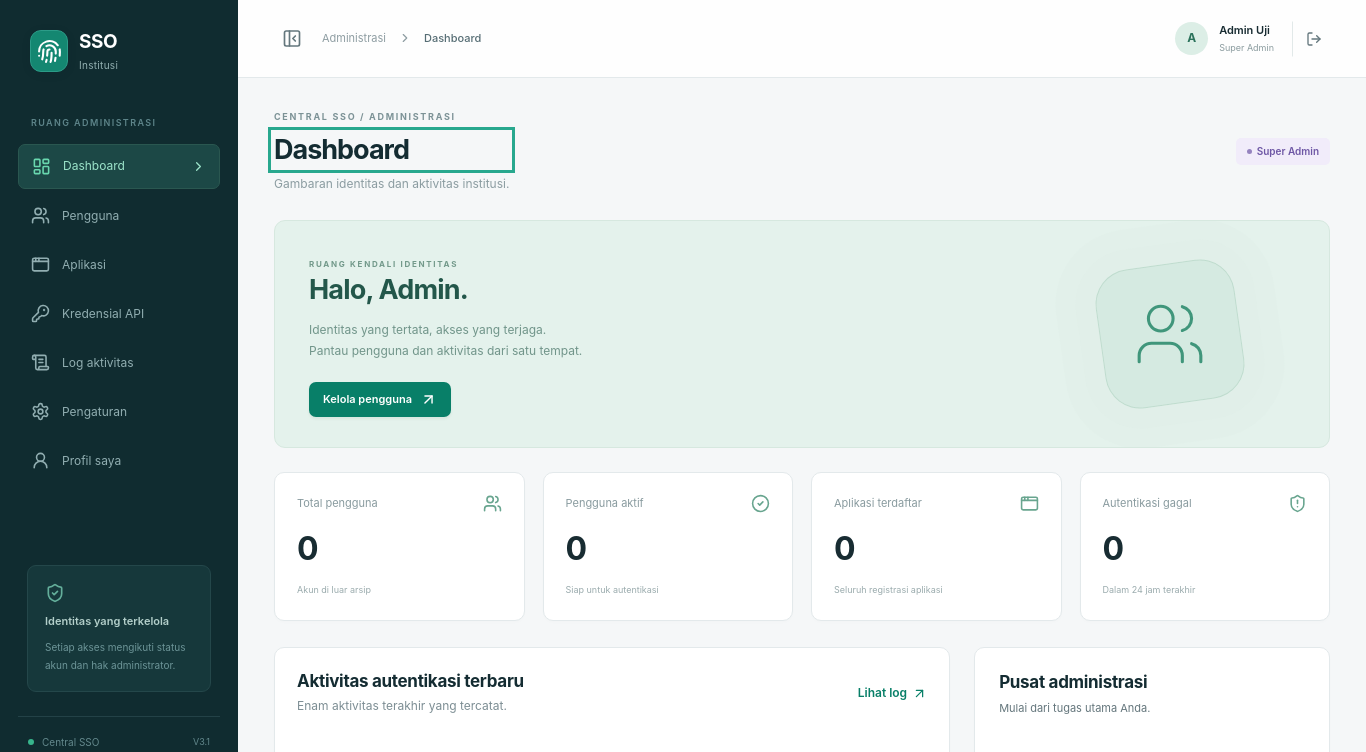
Test: SPA01 destination heading is immediate; data waits for access; preferences and shell stay mounted
Click the link "Pengguna" at (75, 216), box [31, 206, 119, 225]
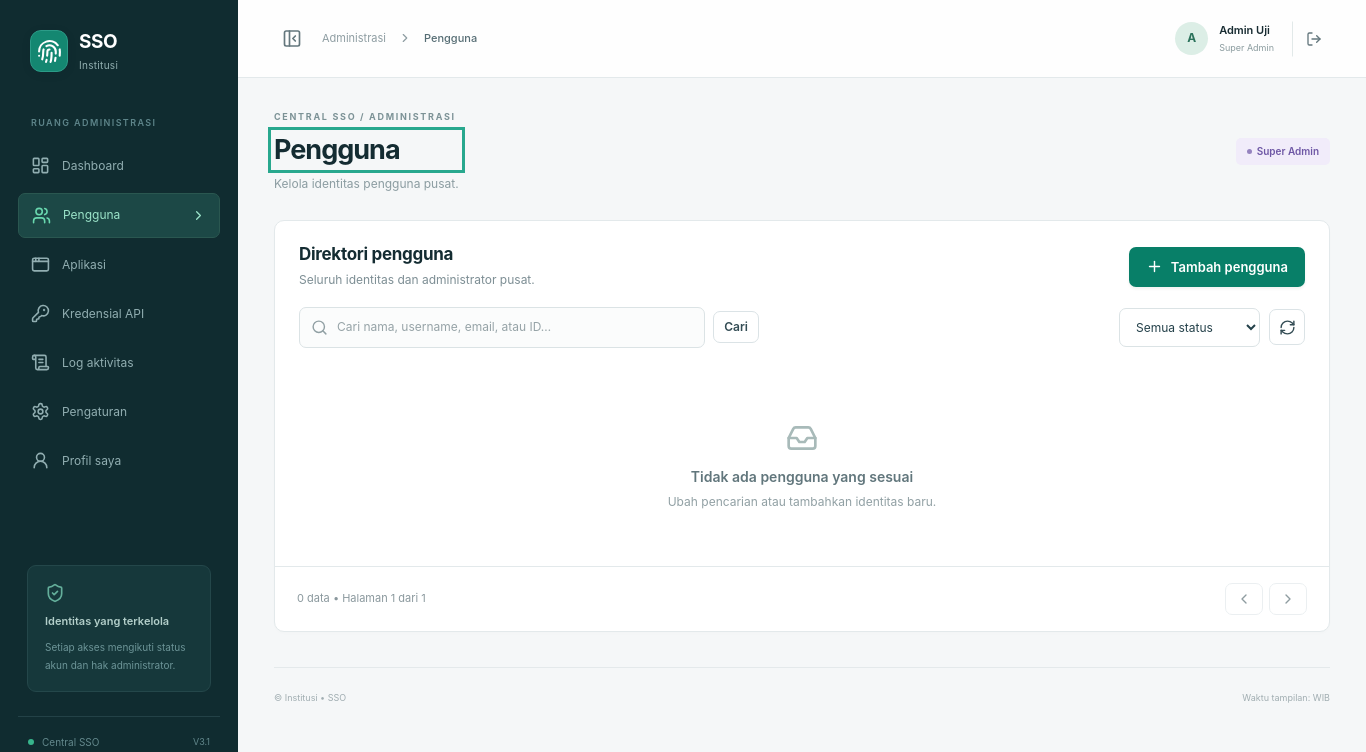
Expected: the heading "Pengguna" is shown, [274, 133, 400, 166]
